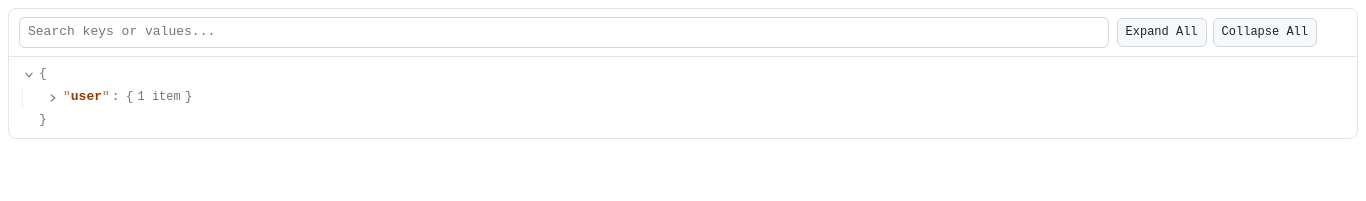
Scenario: JsonViewer - expand/collapse › toggles an individual node open and closed
Expected: the text "city" is not shown
Click the button named "expand user".
click(53, 98)  # box [45,88,61,108]
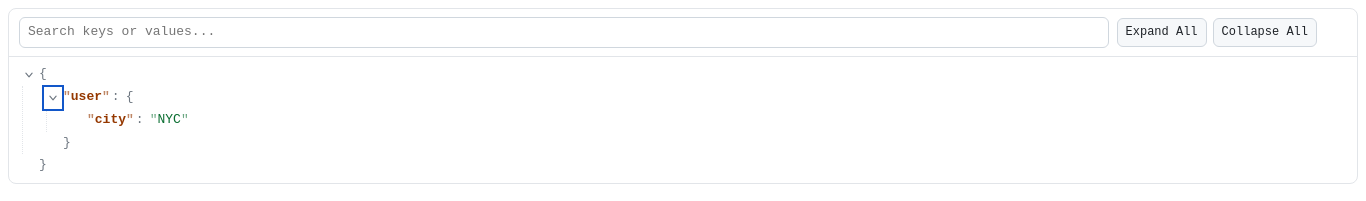
Now the text "city" is shown, box [95,112,126,127]
Click the button named "collapse user".
click(53, 98)  # box [45,88,61,108]
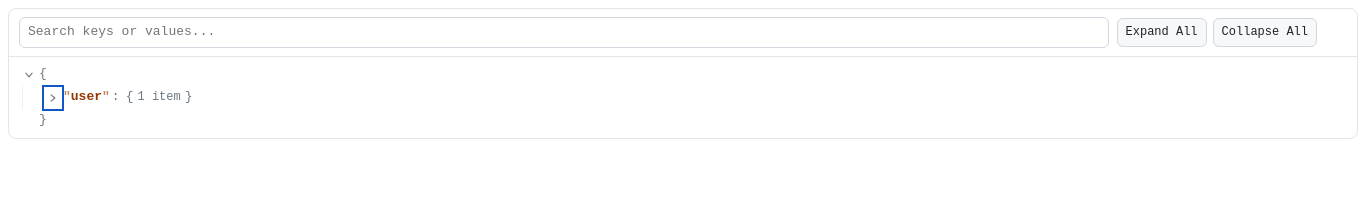
Now the text "city" is gone
